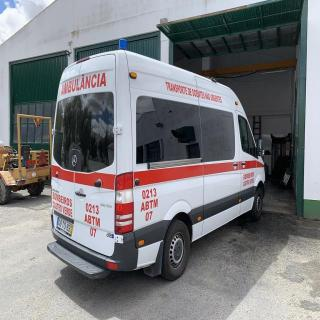Ambulance: (36, 36, 274, 286)
